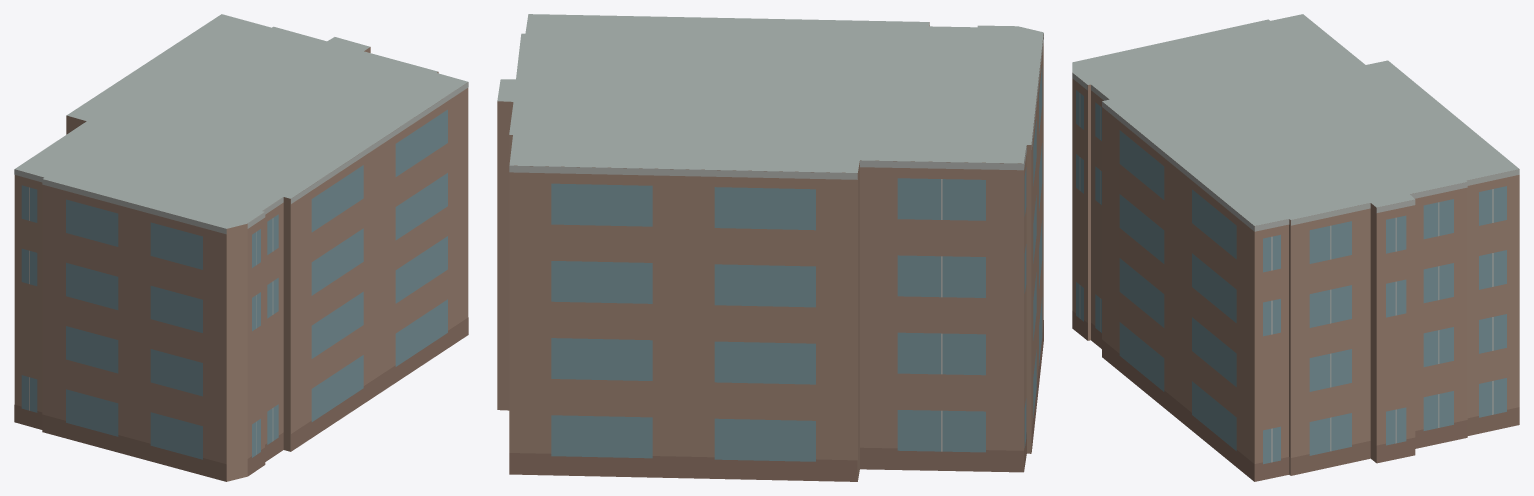
File: survey-upis-33011374.glb
3 views of the same model, side by side, from view 1: azimuth 30°, elevation 25°; view 2: azimuth 150°, elevation 25°; view 3: azimuth 270°, elevation 25° (orthographic). The views are drawn at different scales.
Visible parts, largest first — view 1: survey-upis-33011374.tmp; view 2: survey-upis-33011374.tmp; view 3: survey-upis-33011374.tmp.
Boxes of the visible parts, x1,y1,x2,y2 form: survey-upis-33011374.tmp: (14, 14, 468, 481); survey-upis-33011374.tmp: (497, 14, 1043, 481); survey-upis-33011374.tmp: (1072, 14, 1519, 481).
Bounding box in the file's own units: 19.75 × 11.1 × 17.61.
